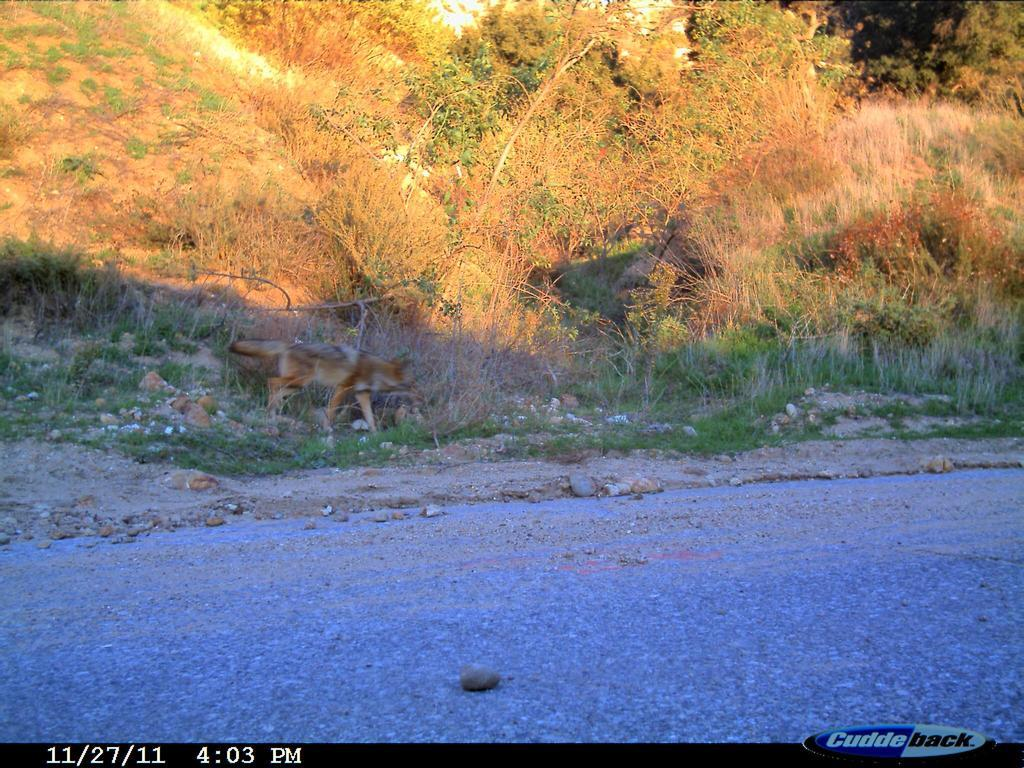coyote: (228, 332, 432, 455)
